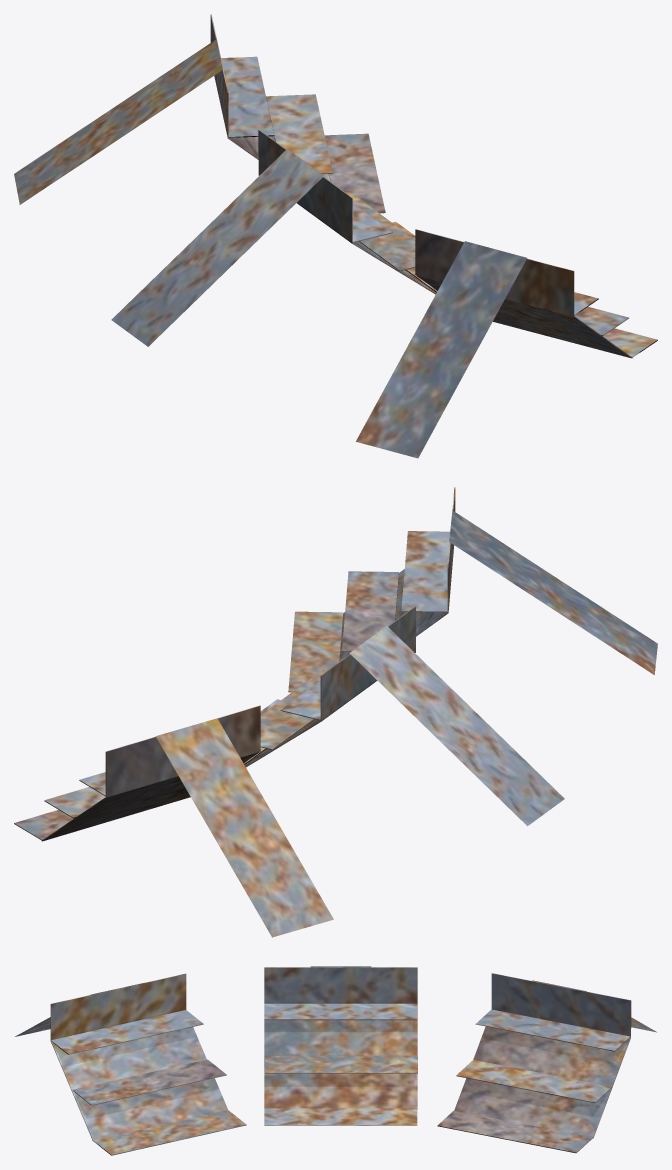
Rendered from bleachers.dae.
3 views of the same model, one above another, from view 1: azimuth 30°, elevation 25°; view 2: azimuth 150°, elevation 25°; view 3: azimuth 270°, elevation 25° (orthographic). The views are drawn at different scales.
Visible parts, largest first — view 1: Cube; view 2: Cube; view 3: Cube.
Part boxes in pixels (x1,y1,x2,y2): Cube: (14,14,657,458); Cube: (14,487,657,937); Cube: (15,966,656,1155).
Bounding box in the file's own units: 0.5396 × 0.9451 × 0.1714.
1 material, 1 textured.
